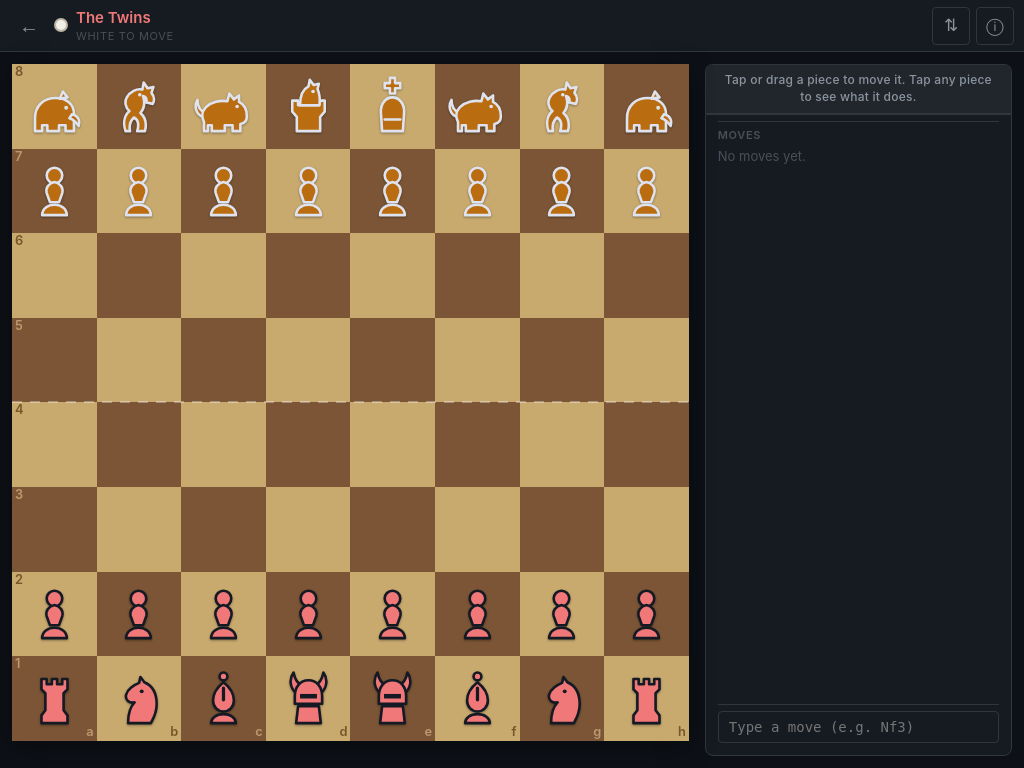
Test: army sheet roster › lists every piece of both armies with what it does
Click the button with test id "army-info-btn".
click(995, 26)  # box 976,6 -> 1014,44
(page scrolled)
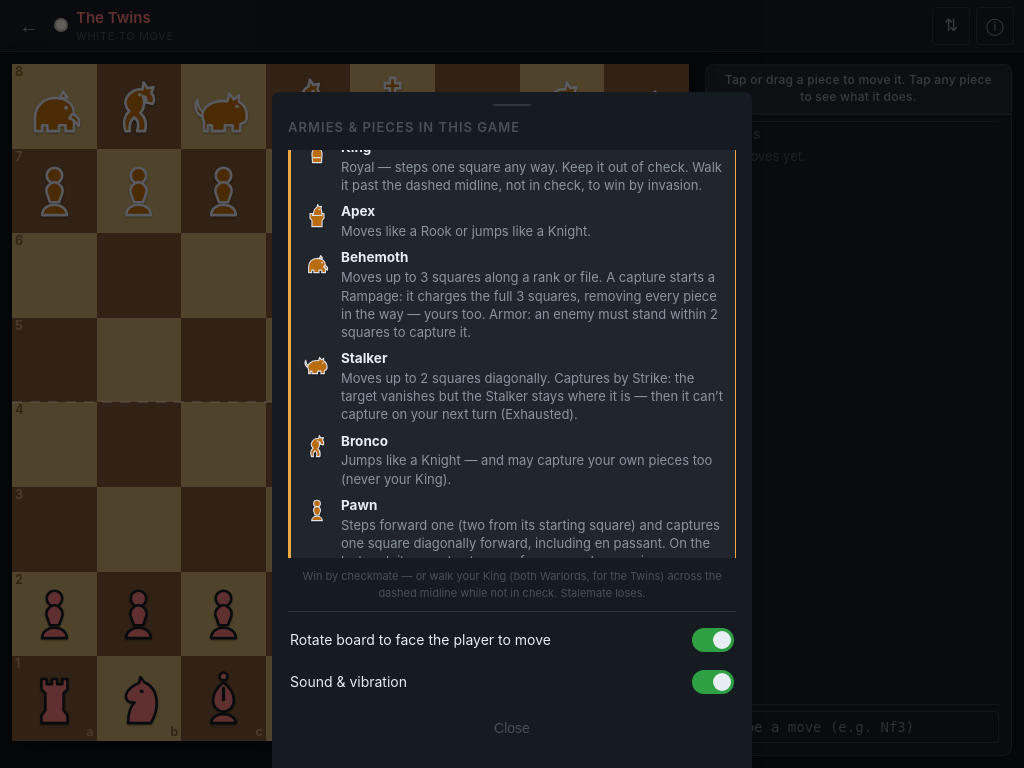
expect the list with test id "army-roster-B" shows "Apex": met, box 341,203 -> 375,219
expect the list with test id "army-roster-B" shows "Behemoth": met, box 341,250 -> 408,266
expect the list with test id "army-roster-B" shows "Stalker": met, box 341,350 -> 387,366
